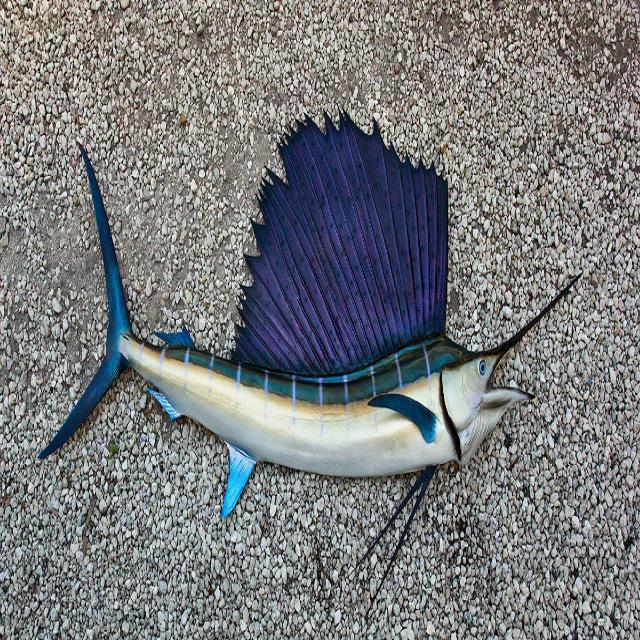Sail Fish: (36, 104, 582, 618)
